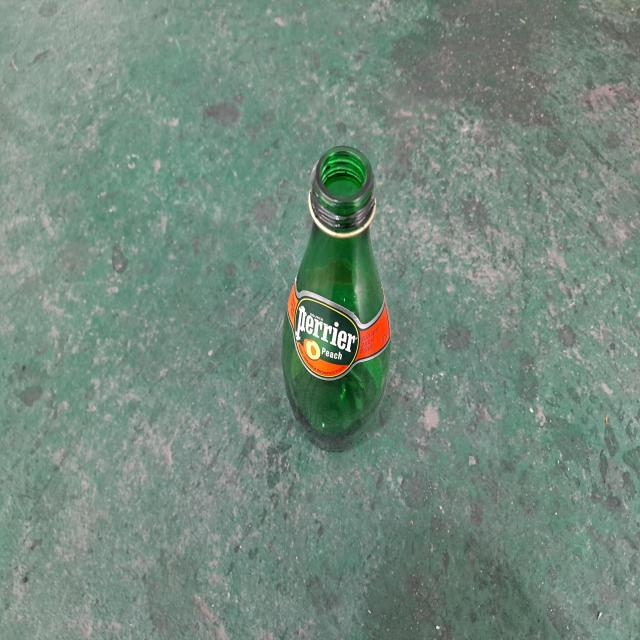glass: (282, 146, 391, 450)
